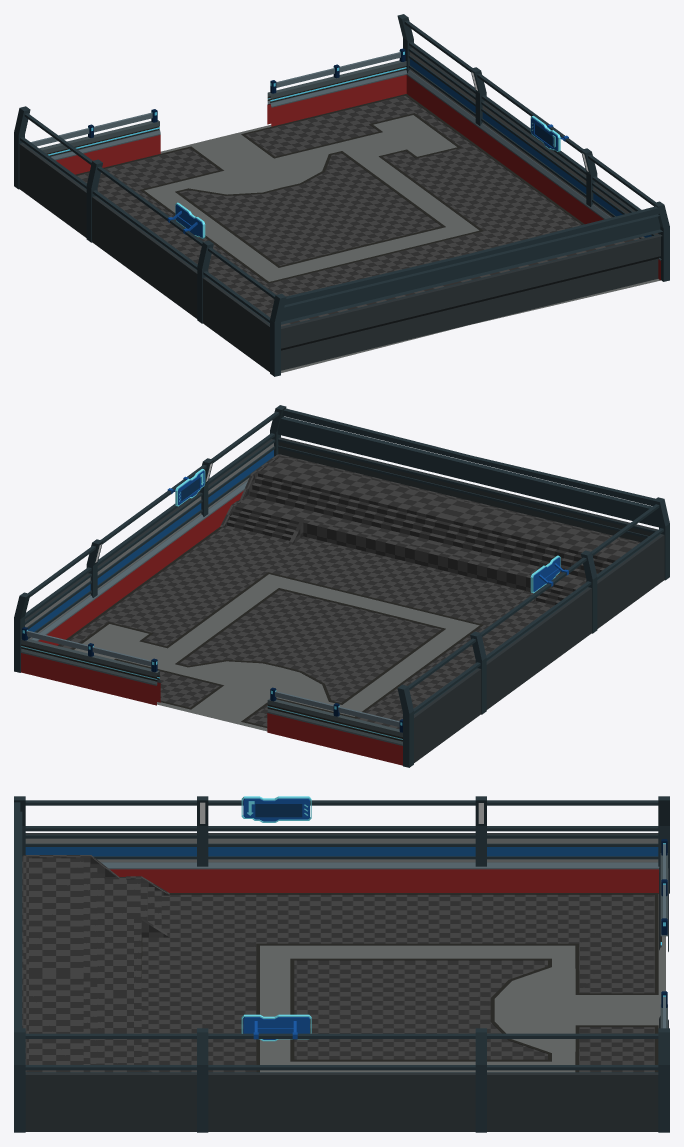
File: landmap1.fbx
3 renders of one model, top to bottom at view 1: azimuth 30°, elevation 25°; view 2: azimuth 150°, elevation 25°; view 3: azimuth 270°, elevation 25°, orthographic. The views are drawn at different scales.
Parts seen in each view (by area): view 1: landmap1; view 2: landmap1; view 3: landmap1.
Part boxes in pixels (left/top/right/bottom): landmap1: left=14, top=14, right=669, bottom=376; landmap1: left=14, top=405, right=669, bottom=767; landmap1: left=14, top=796, right=669, bottom=1132.
Size of the model in its own units: 35.36 by 7.14 by 40.36.
